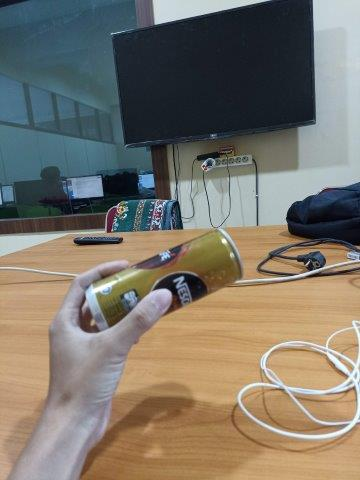kaleng: (84, 227, 243, 332)
